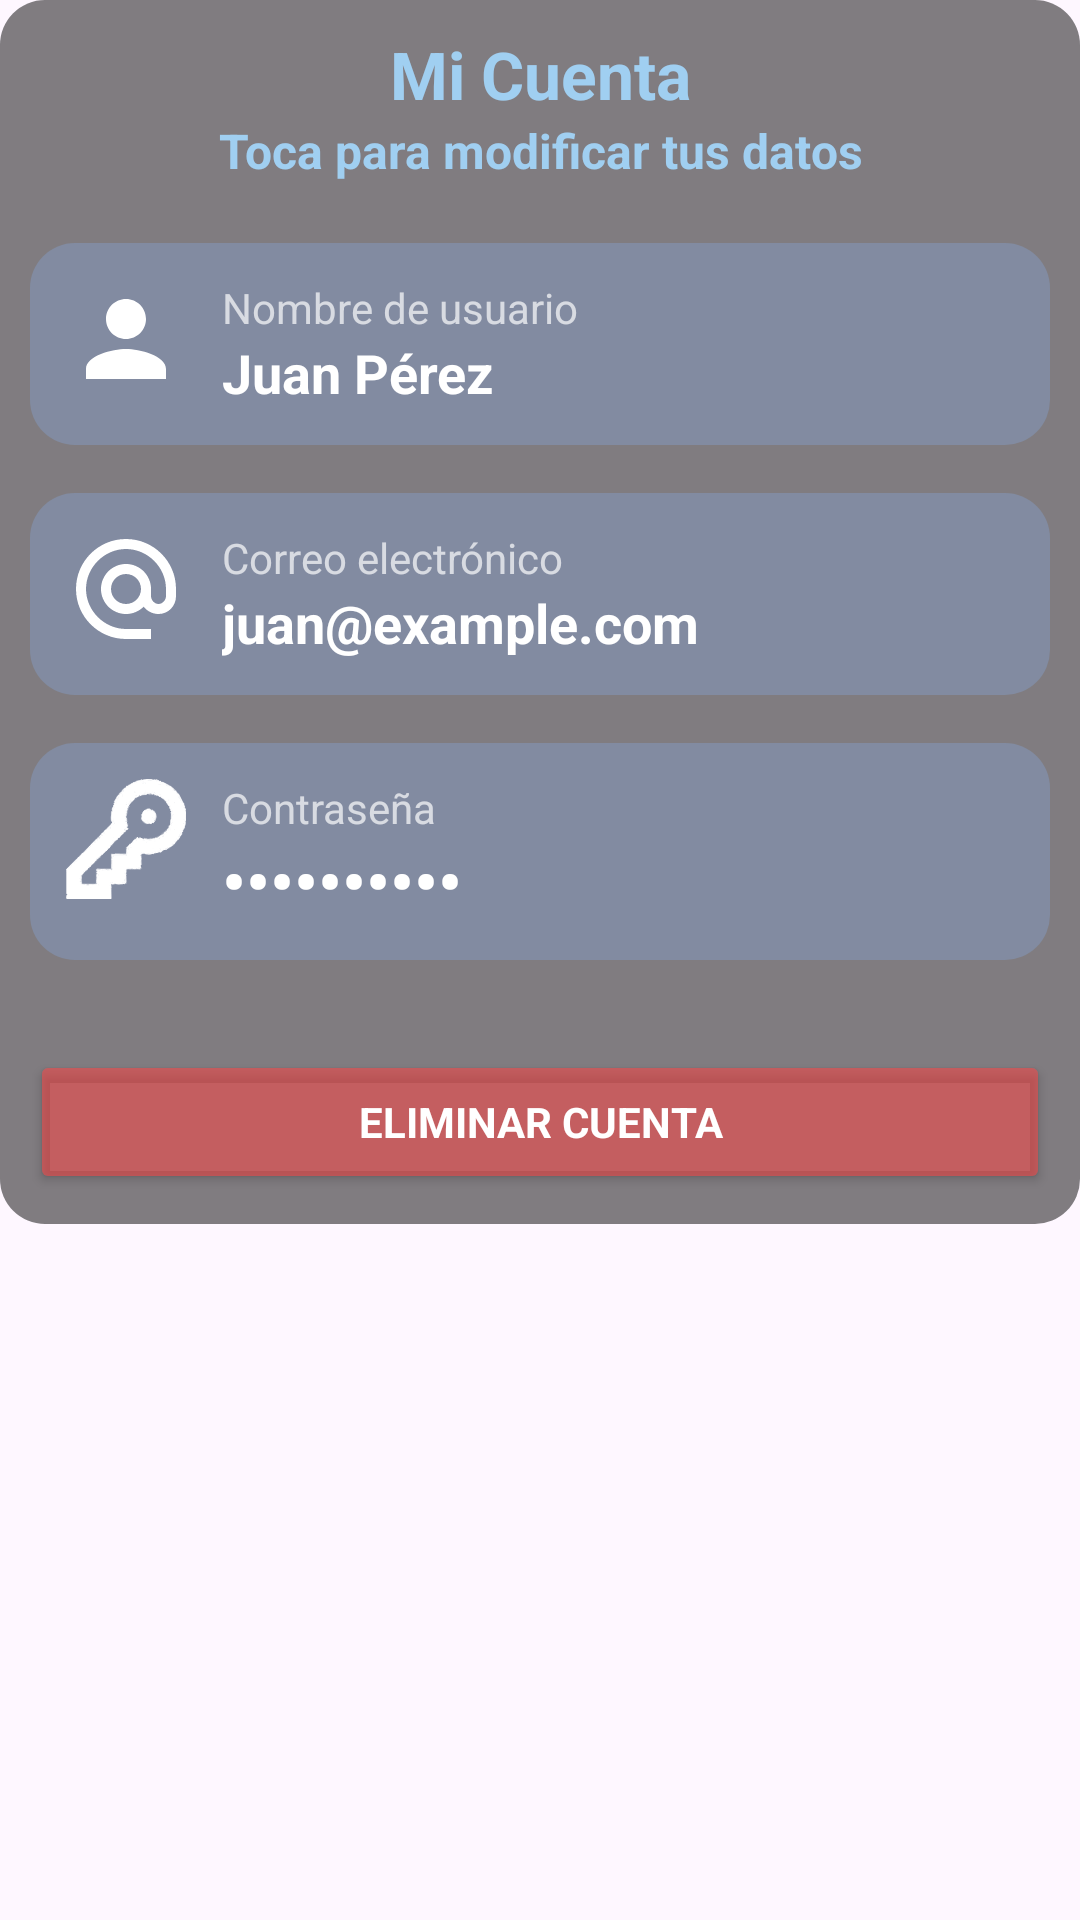

Named icons in this screenshot (1080x1920) and their centers, (x=x, y=y):
contrasena: (x=126, y=839)
